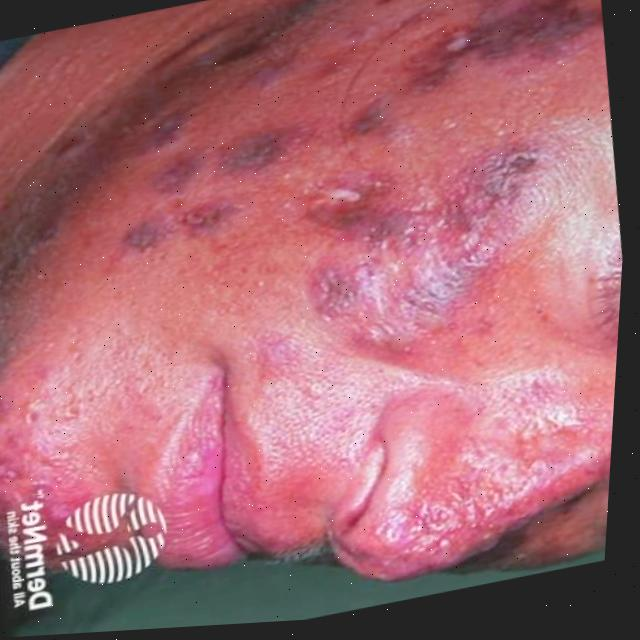lupus-detected: (298, 286, 621, 581), (244, 76, 547, 382), (108, 82, 322, 271), (0, 302, 134, 572), (288, 0, 610, 111)
